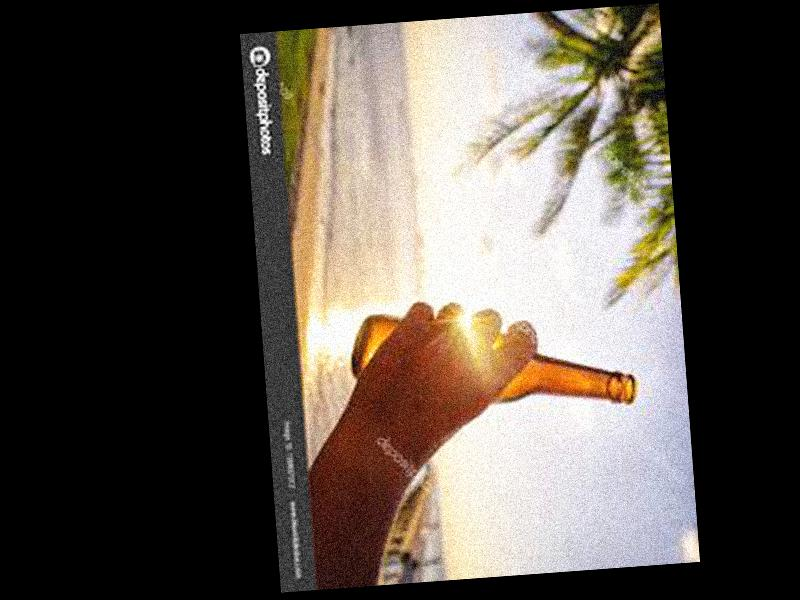Beer: (346, 298, 637, 427)
